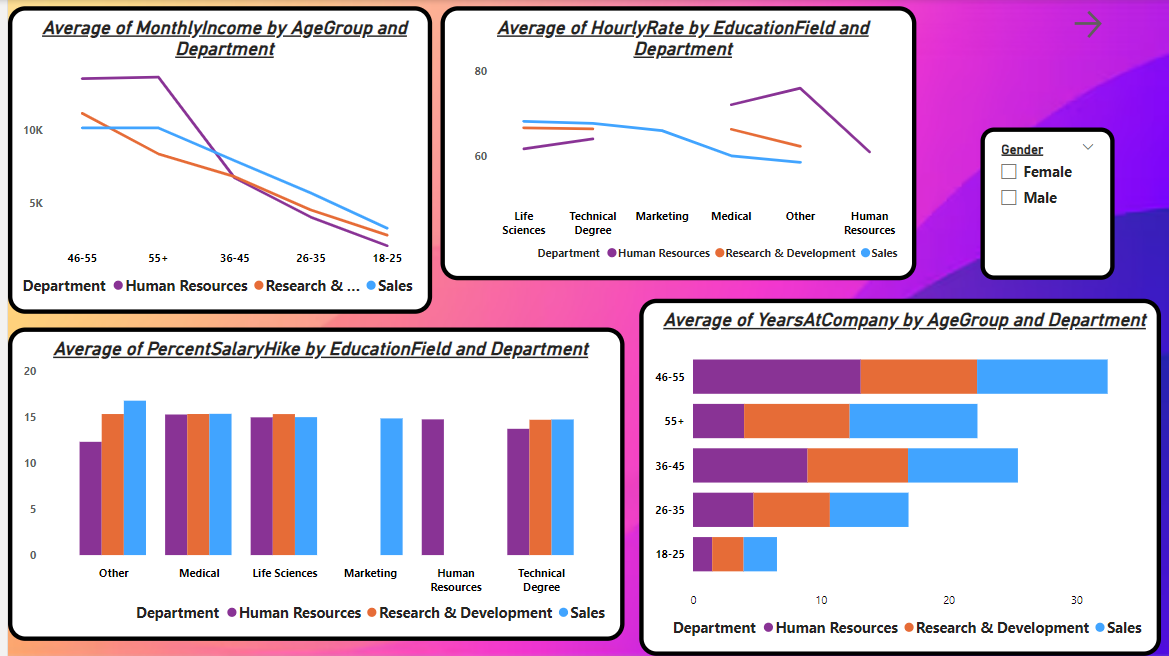

The dashboard page shown, as its layout file describes it:
{"tool":"powerbi","page":{"name":"Page 3","canvas":[1280,720],"ordinal":2},"visuals":[{"type":"lineChart","fields":{"Y":["Avg(HR_Analytics.MonthlyIncome)"],"Category":["HR_Analytics.AgeGroup"],"Series":["HR_Analytics.Department"]},"box":[0,7.2,465.7,337.8],"z":0},{"type":"lineChart","fields":{"Y":["Avg(HR_Analytics.HourlyRate)"],"Category":["HR_Analytics.EducationField"],"Series":["HR_Analytics.Department"]},"box":[475.3,7.2,522.4,300.4],"z":1000},{"type":"clusteredColumnChart","fields":{"Category":["HR_Analytics.EducationField"],"Series":["HR_Analytics.Department"],"Y":["Avg(HR_Analytics.PercentSalaryHike)"]},"box":[0,359.5,676.8,343.8],"z":2000},{"type":"barChart","fields":{"Y":["Avg(HR_Analytics.YearsAtCompany)"],"Category":["HR_Analytics.AgeGroup"],"Series":["HR_Analytics.Department"]},"box":[692.5,328.2,573.1,392.1],"z":3000},{"type":"slicer","fields":{"Values":["HR_Analytics.Gender"]},"box":[1067.6,140,146.8,167.4],"z":4000},{"type":"actionButton","box":[1165,6.9,100.2,39.8],"z":5000}]}

Visuals, with their boxes in screenshot pixels (x1, y1, x2, y2), scaled from the page's 1280x720 canvas onto the 1169x656 screenshot:
lineChart - Avg(HR_Analytics.MonthlyIncome) x HR_Analytics.AgeGroup: <box>0,7,425,314</box>
lineChart - Avg(HR_Analytics.HourlyRate) x HR_Analytics.EducationField: <box>434,7,911,280</box>
clusteredColumnChart - HR_Analytics.EducationField x HR_Analytics.Department: <box>0,328,618,641</box>
barChart - Avg(HR_Analytics.YearsAtCompany) x HR_Analytics.AgeGroup: <box>632,299,1156,655</box>
slicer - HR_Analytics.Gender: <box>975,128,1109,280</box>
actionButton: <box>1064,6,1155,43</box>
